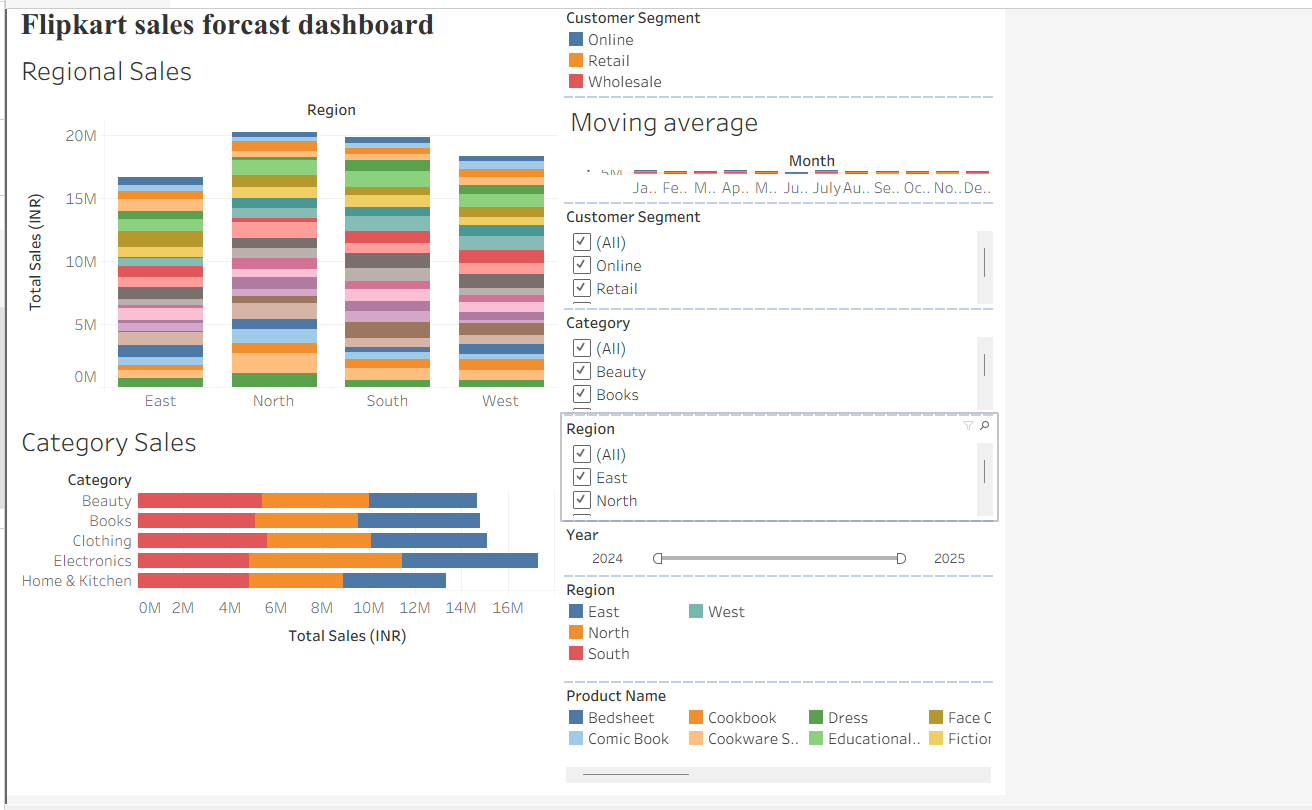

The dashboard page shown, as its layout file describes it:
{"tool":"tableau","page":{"name":"Sales Forecast Dashboard","canvas":[1000,800],"ordinal":1},"visuals":[{"type":"title","box":[8,8,549,42]},{"type":"legend","title":"Category Sales","param":"[federated.1t838q3138a7rr17odz171b4lht1].[none:Customer Segment:nk]","box":[557,8,435,93]},{"type":"worksheet","title":"Regional Sales","mark":"Automatic","rows":["Total Sales (INR)"],"cols":["Region"],"box":[8,50,549,371]},{"type":"worksheet","title":"Moving average","mark":"Automatic","rows":["Total Sales (INR)"],"cols":["Month"],"box":[557,101,435,106]},{"type":"filter","title":"Moving average","param":"[federated.1t838q3138a7rr17odz171b4lht1].[none:Customer Segment:nk]","box":[557,207,435,106]},{"type":"filter","title":"Moving average","param":"[federated.1t838q3138a7rr17odz171b4lht1].[none:Category:nk]","box":[557,313,435,106]},{"type":"filter","title":"Moving average","param":"[federated.1t838q3138a7rr17odz171b4lht1].[none:Region:nk]","box":[557,419,435,106]},{"type":"worksheet","title":"Category Sales","mark":"Automatic","rows":["Category"],"cols":["Total Sales (INR)"],"box":[8,421,549,371]},{"type":"filter","title":"Moving average","param":"[federated.1t838q3138a7rr17odz171b4lht1].[none:Year:qk]","box":[557,525,435,55]},{"type":"legend","title":"Moving average","param":"[federated.1t838q3138a7rr17odz171b4lht1].[none:Region:nk]","box":[557,580,435,106]},{"type":"legend","title":"Regional Sales","param":"[federated.1t838q3138a7rr17odz171b4lht1].[none:Product Name:nk]","box":[557,686,435,106]}]}

Visuals, with their boxes on the page's 1000x800 design canvas (x1, y1, x2, y2). These are canvas units, not pixel positions in the 1312x810 screenshot, which may show the page scaled, cropped or inside an application window:
title: <region>8, 8, 557, 50</region>
"Category Sales" legend: <region>557, 8, 992, 101</region>
"Regional Sales" worksheet: <region>8, 50, 557, 421</region>
"Moving average" worksheet: <region>557, 101, 992, 207</region>
"Moving average" filter: <region>557, 207, 992, 313</region>
"Moving average" filter: <region>557, 313, 992, 419</region>
"Moving average" filter: <region>557, 419, 992, 525</region>
"Category Sales" worksheet: <region>8, 421, 557, 792</region>
"Moving average" filter: <region>557, 525, 992, 580</region>
"Moving average" legend: <region>557, 580, 992, 686</region>
"Regional Sales" legend: <region>557, 686, 992, 792</region>
